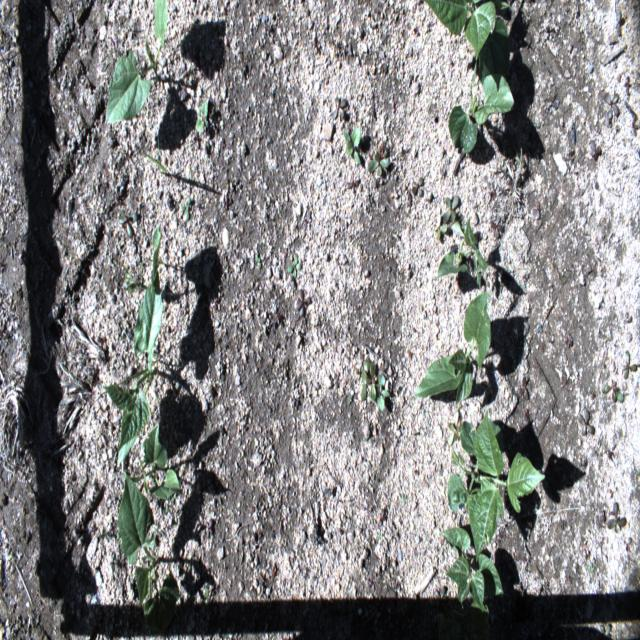crop: (442, 408, 546, 640), (104, 226, 164, 467), (116, 472, 182, 635), (422, 0, 516, 97), (414, 291, 491, 404), (107, 1, 167, 122), (446, 74, 514, 152), (139, 422, 182, 502), (437, 222, 486, 282)
weed: (360, 356, 389, 408), (343, 126, 360, 165), (366, 152, 391, 178), (576, 408, 596, 438), (608, 501, 627, 532), (448, 408, 462, 448), (295, 286, 310, 321), (441, 194, 459, 223), (120, 210, 137, 239), (601, 382, 624, 403), (623, 346, 638, 378), (194, 99, 208, 133), (432, 210, 446, 242), (331, 94, 347, 120), (604, 92, 619, 119), (178, 197, 192, 223), (290, 252, 302, 281), (413, 177, 423, 196), (599, 623, 611, 636)
